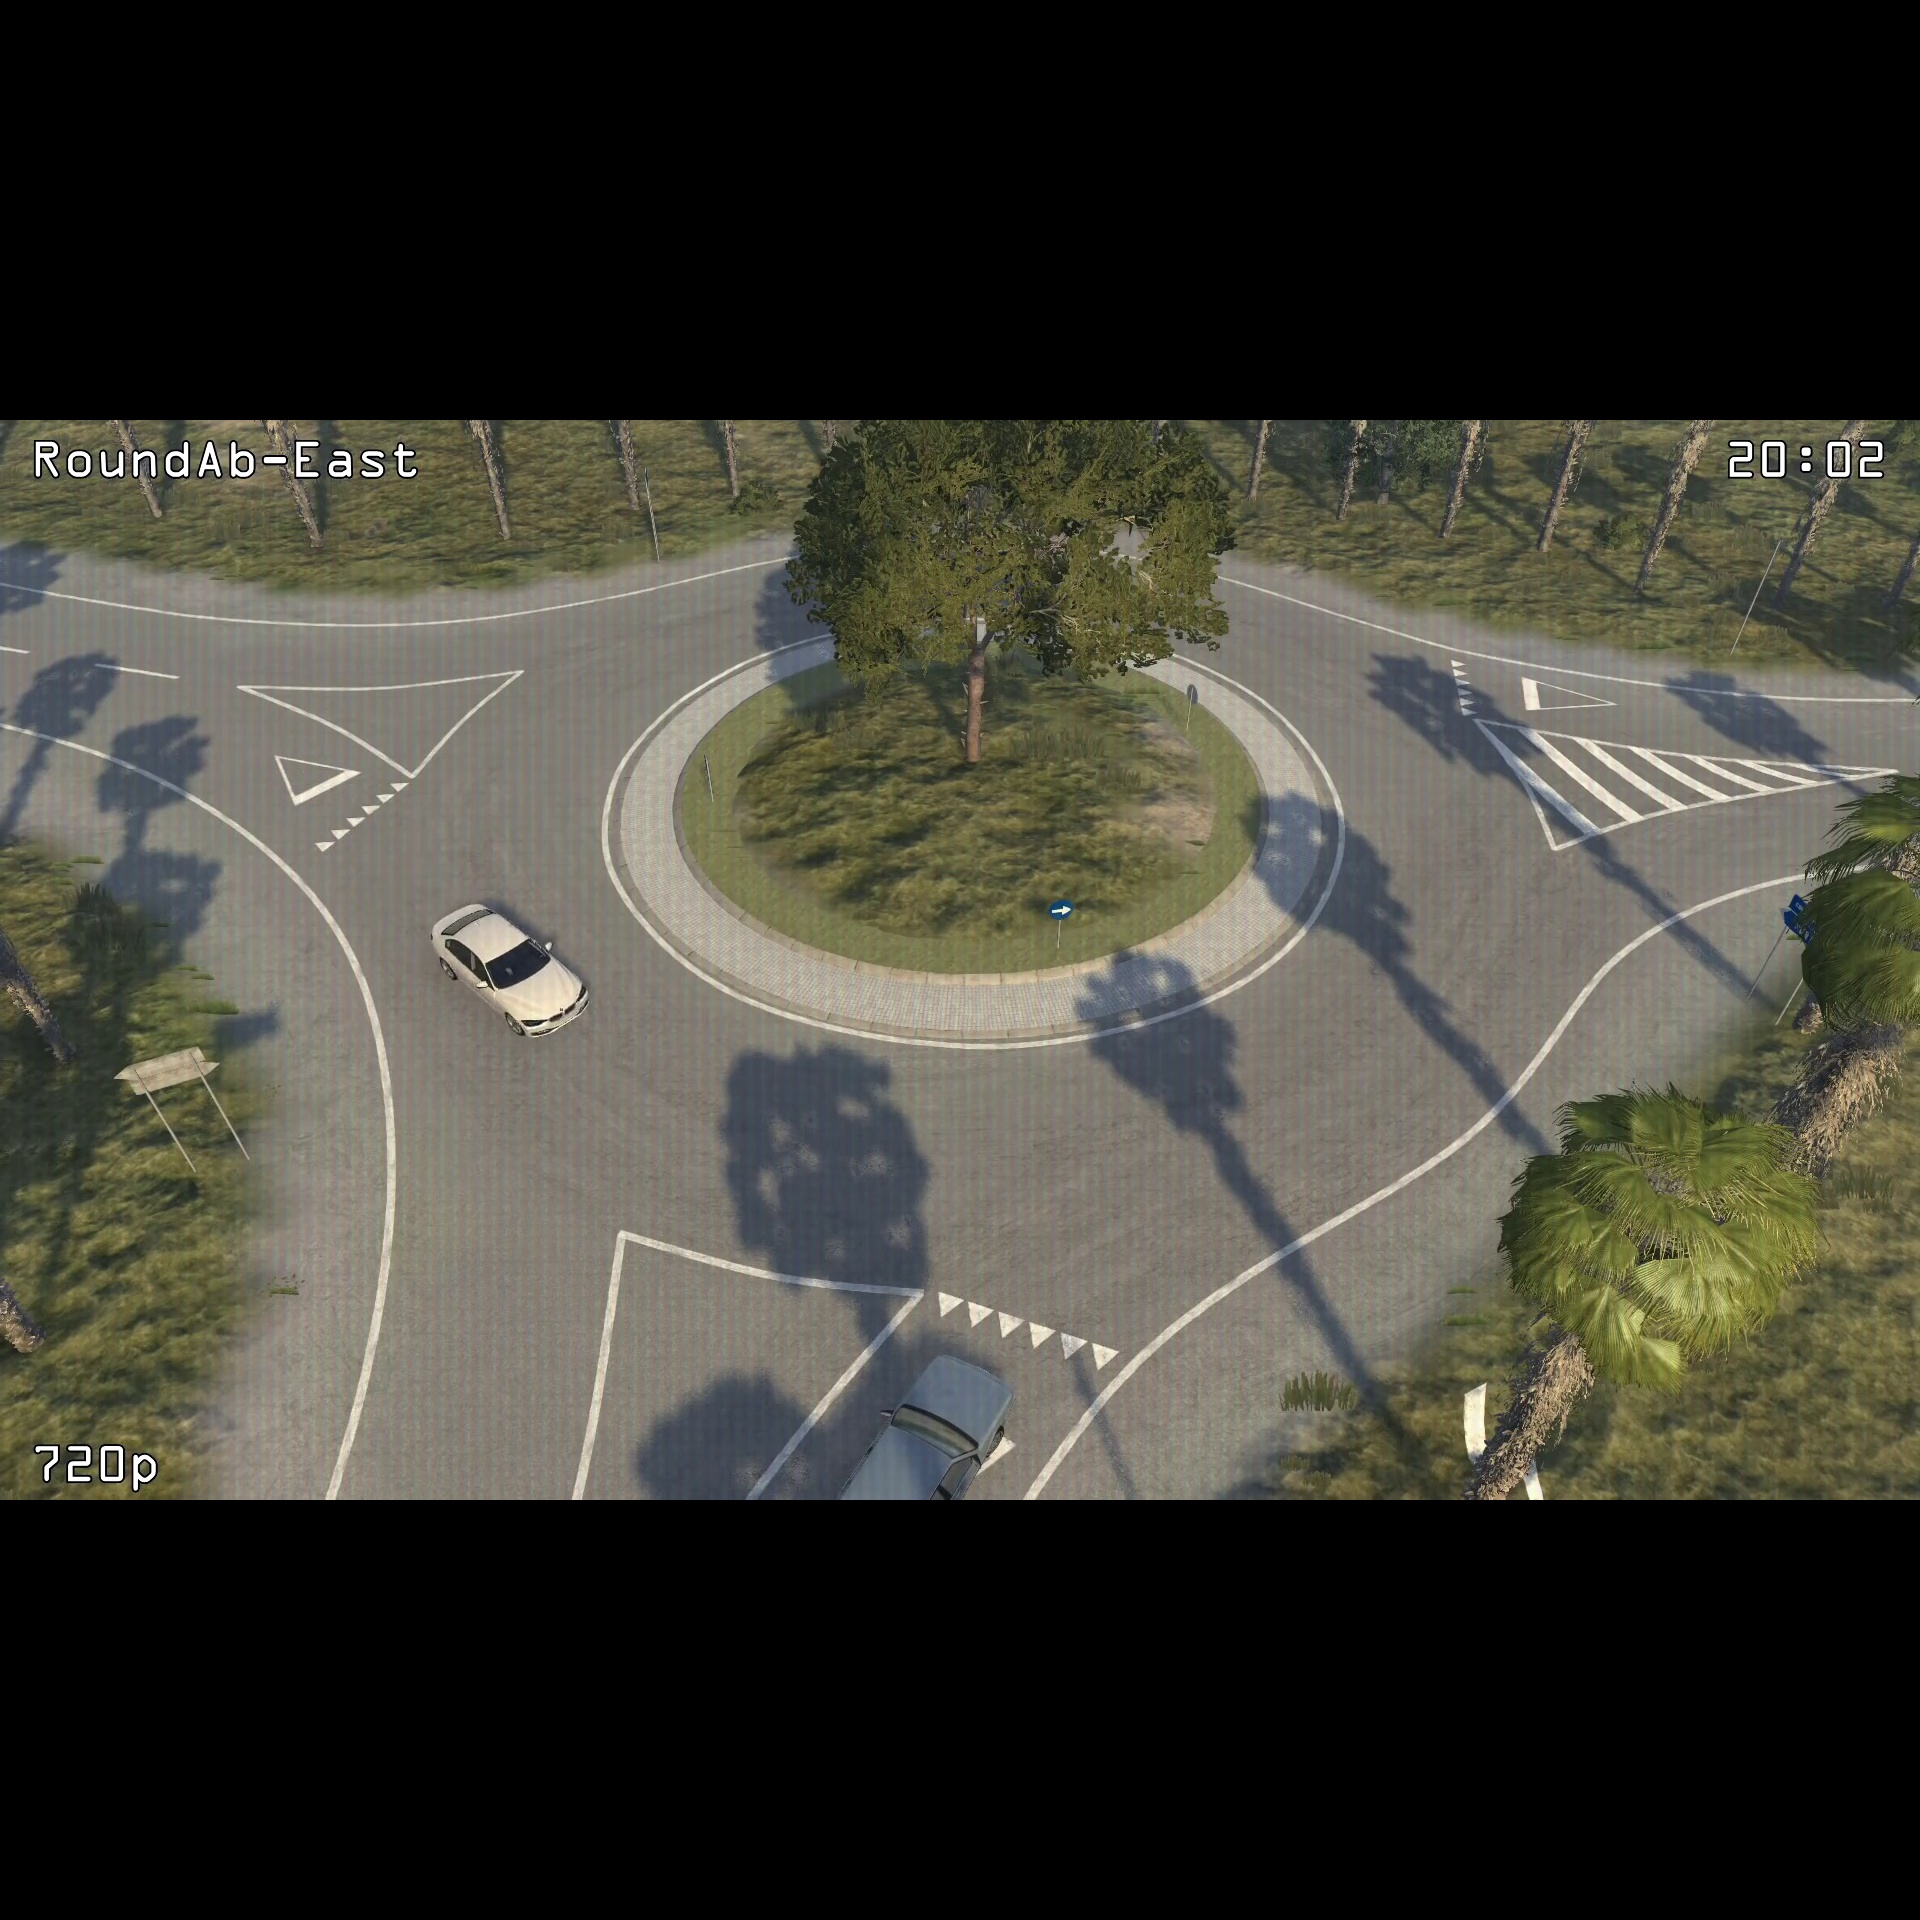vehicle: (819, 1347, 1025, 1502), (422, 897, 598, 1044)
